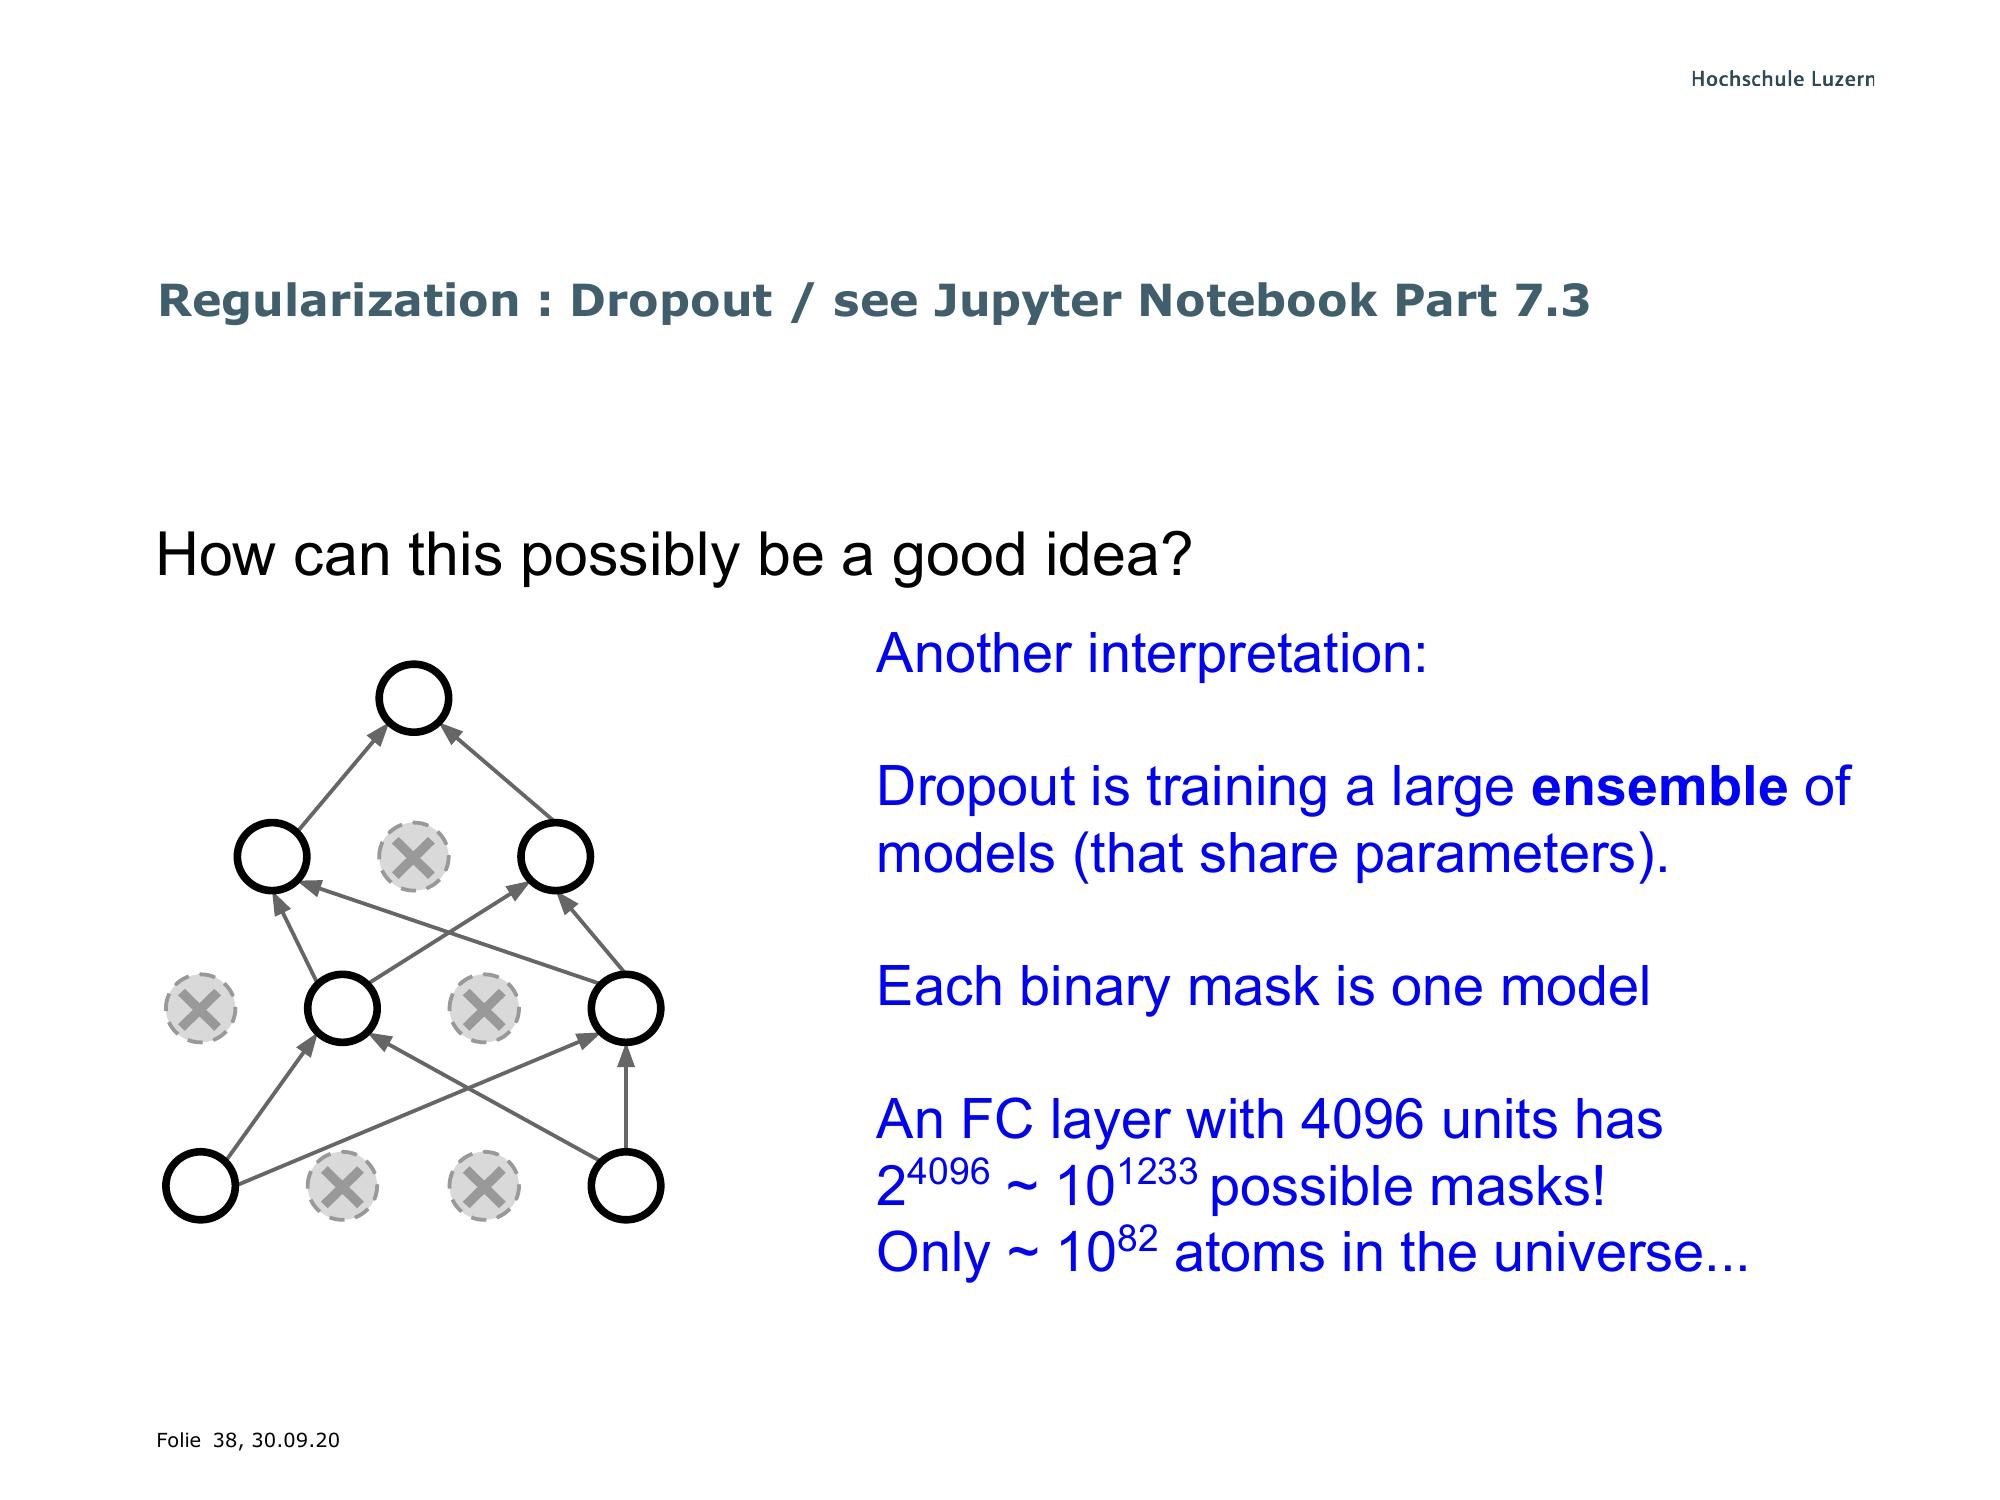Title: (157, 266, 1606, 328)
